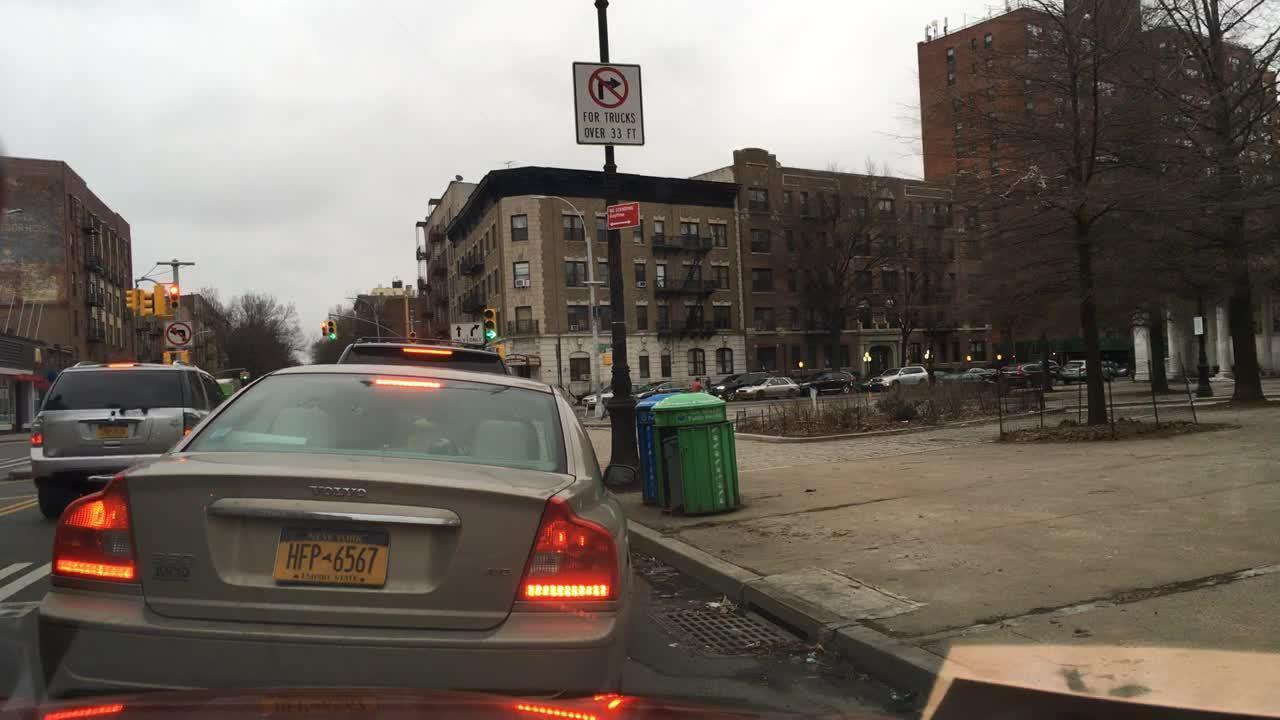volvo: (307, 483, 371, 499)
